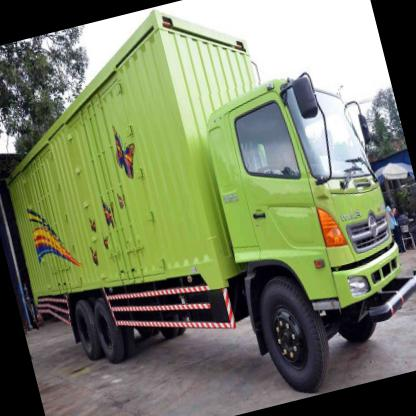truck: (195, 58, 416, 404)
